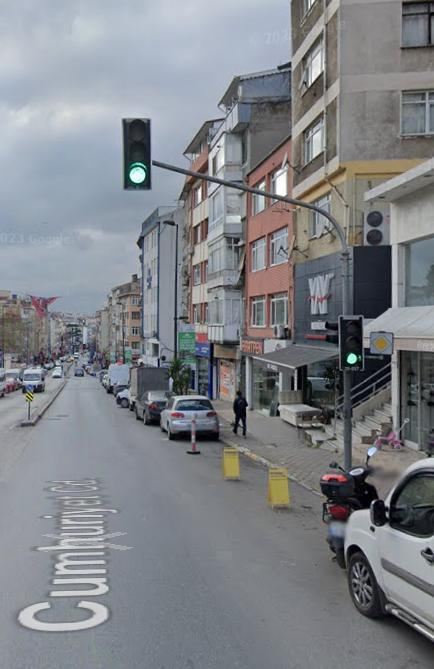greenlight: (123, 119, 151, 191), (341, 315, 364, 372)
